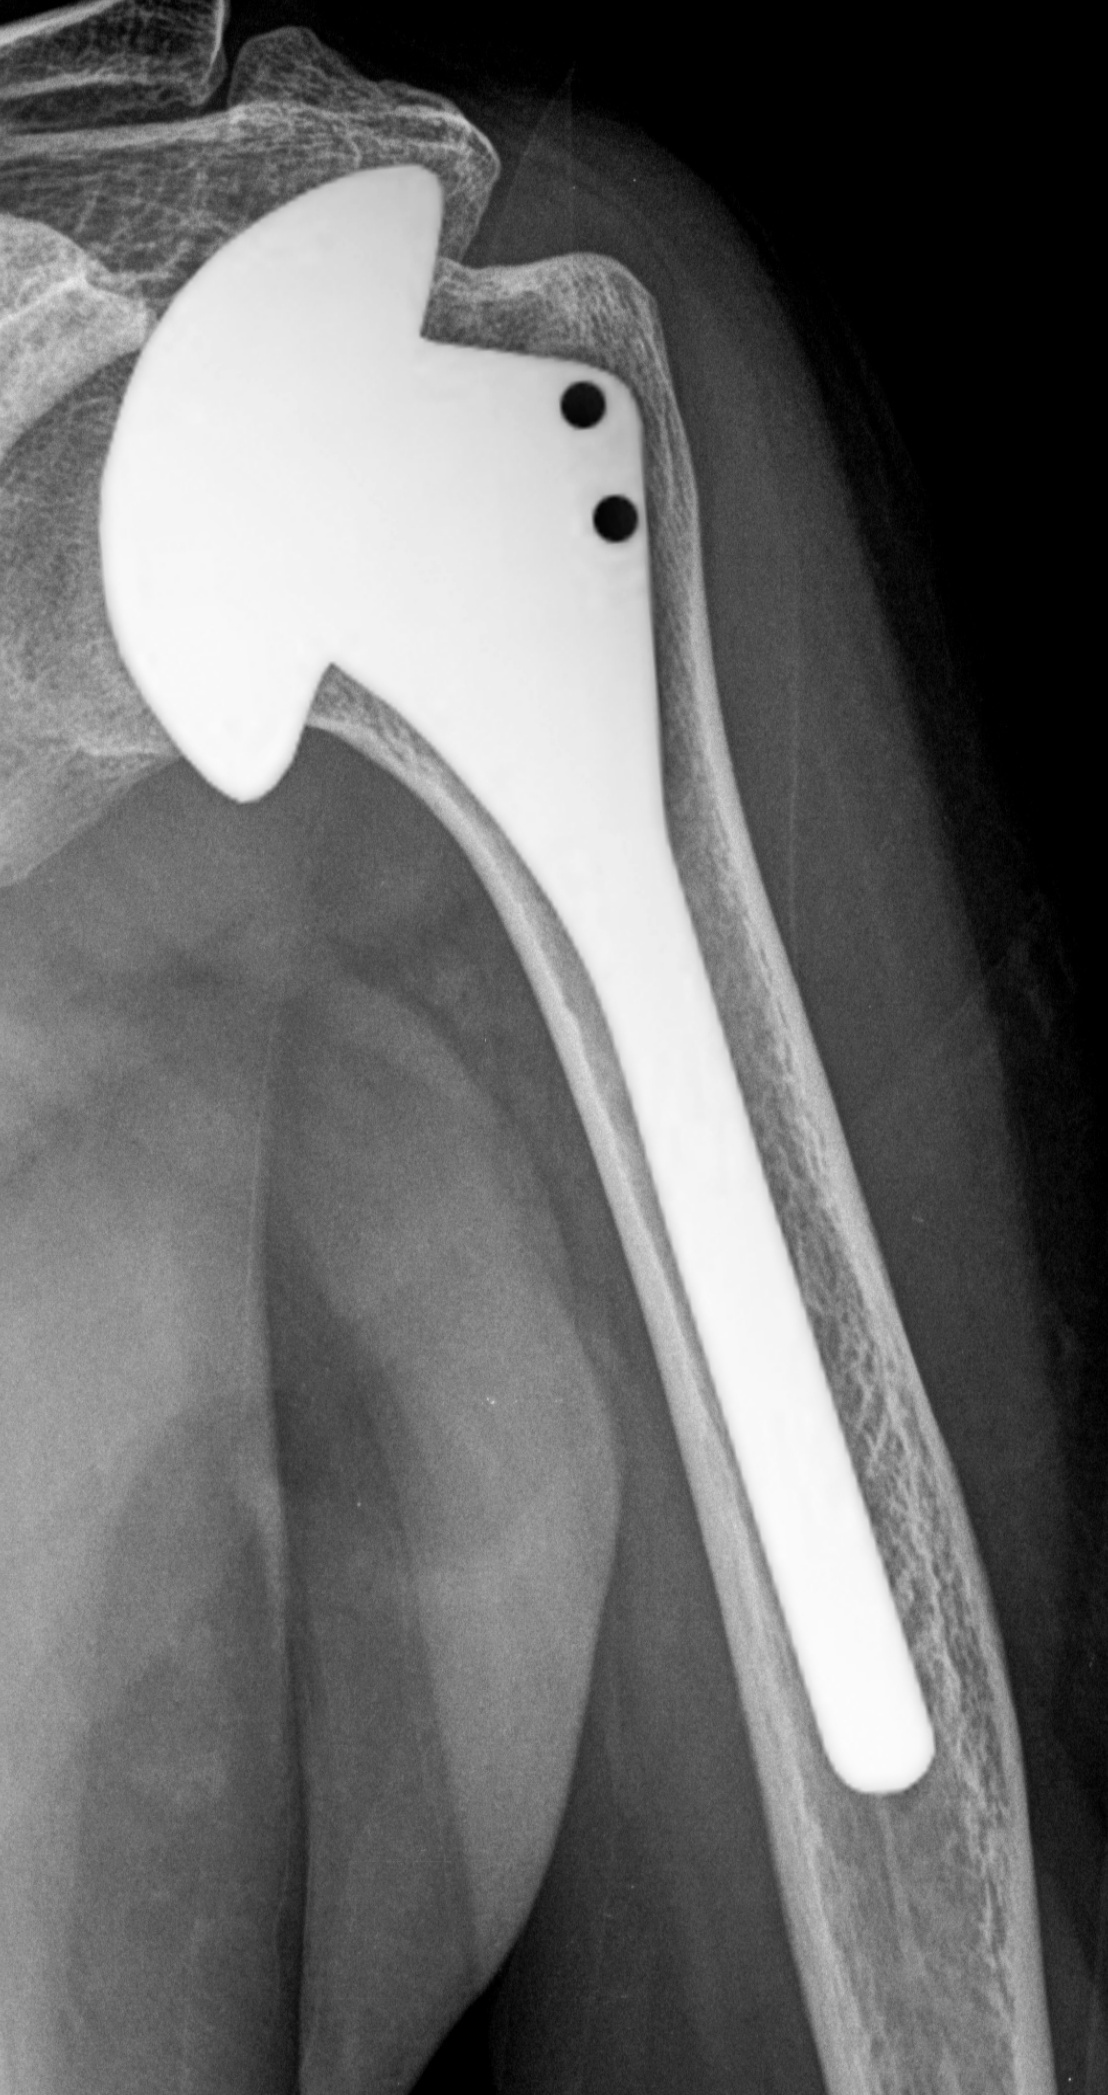Shoulder - Aequalis - Tornier: (79, 136, 679, 844)
